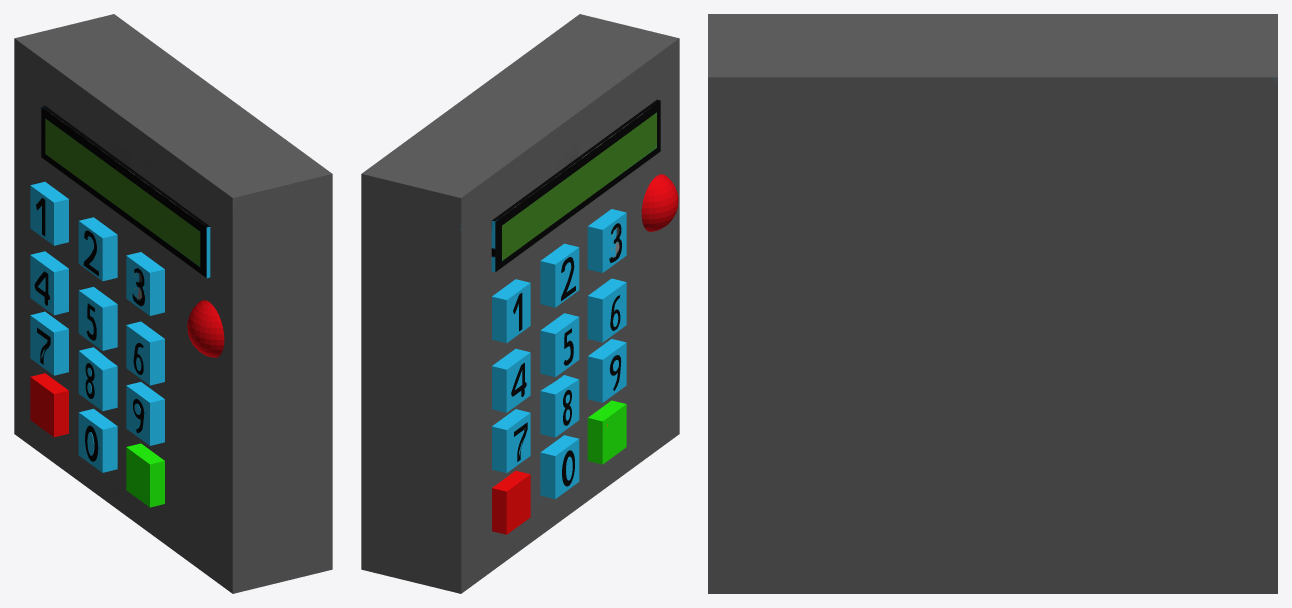
File: ZamekDoDrzwi.fbx
3 views of the same model, side by side, from view 1: azimuth 30°, elevation 25°; view 2: azimuth 150°, elevation 25°; view 3: azimuth 270°, elevation 25° (orthographic). The views are drawn at different scales.
Parts seen in each view (by area): view 1: Zamek, Display, 2, 5, 0, 8, 7, 6, OK, 1, Cancel, 9 (+3 smaller); view 2: Zamek, Display, 9, 3, 5, 6, 0, OK, 2, Cancel, 1, 4 (+3 smaller); view 3: Zamek.
Part boxes in pixels (box(x1,y1,x2,y2)): Zamek: box(14, 14, 332, 593); Display: box(41, 105, 210, 278); 2: box(78, 217, 117, 281); 5: box(78, 287, 117, 350); 0: box(78, 408, 117, 472); 8: box(78, 347, 117, 411); 7: box(30, 311, 68, 375); 6: box(126, 321, 164, 385); OK: box(126, 443, 164, 507); 1: box(30, 181, 68, 245); Cancel: box(30, 373, 68, 437); 9: box(126, 382, 164, 445); Zamek: box(361, 14, 679, 593); Display: box(491, 99, 660, 272); 9: box(587, 339, 626, 402); 3: box(587, 209, 626, 272); 5: box(540, 313, 579, 377); 6: box(587, 278, 626, 342); 0: box(540, 435, 579, 499); OK: box(587, 400, 626, 464); 2: box(540, 243, 579, 307); Cancel: box(492, 470, 530, 534); 1: box(492, 279, 530, 343); 4: box(492, 348, 530, 412); Zamek: box(708, 14, 1277, 593).
Size of the model in its own units: 62.32 by 200 by 200.
